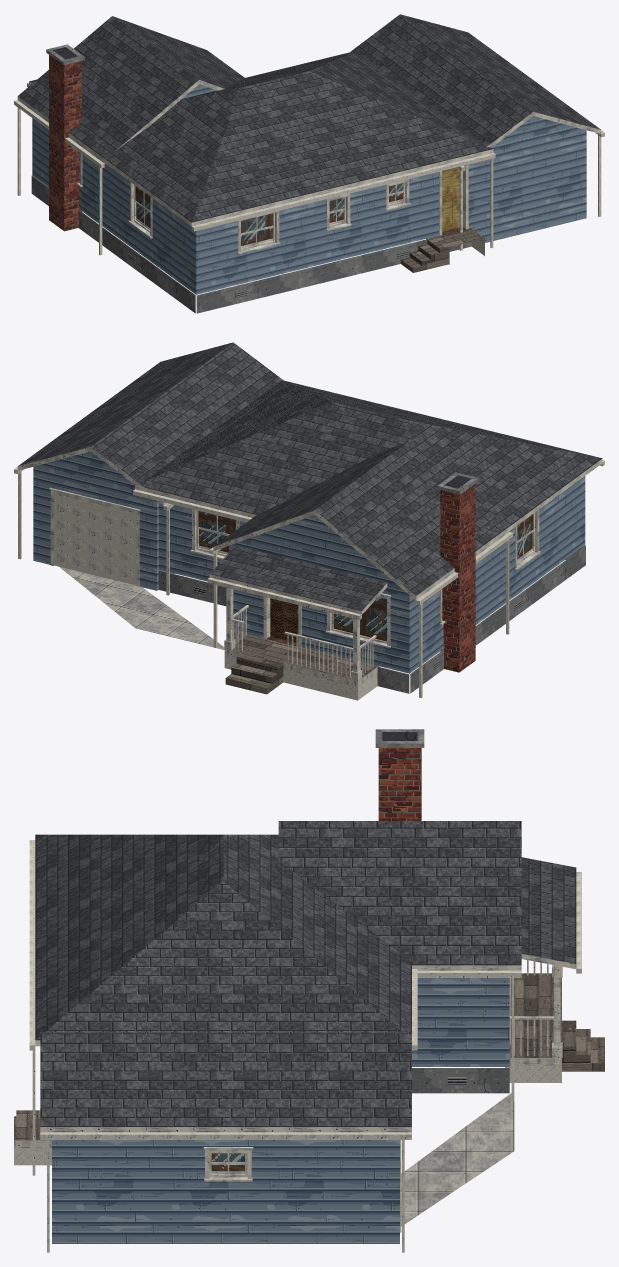
Rendered from RES_PlayerHome.obj.
The picture shows the model from 3 angles, top to bottom: view 1: azimuth 30°, elevation 25°; view 2: azimuth 150°, elevation 25°; view 3: azimuth 270°, elevation 25°; orthographic projection. The views are drawn at different scales.
Visible parts, largest first — view 1: RES_PlayerHome_Exterior_M_Arch_RoofShinglesDarkGray, RES_PlayerHome_Exterior_M_Arch_SidingBlue, RES_PlayerHome_Exterior_M_Arch_ConcreteFoundation, RES_PlayerHome_Exterior_M_Arch_TrimPainted, RES_PlayerHome_Exterior_M_Arch_BrickRed, RES_PlayerHome_Exterior_M_Town_PaintWhite, RES_PlayerHome_Exterior_M_Arch_WoodPlanksAged, INT_Door_Back_M_Furn_WoodPainted, RES_PlayerHome_Exterior_M_Arch_WindowGlassDirty; view 2: RES_PlayerHome_Exterior_M_Arch_RoofShinglesDarkGray, RES_PlayerHome_Exterior_M_Arch_SidingBlue, RES_PlayerHome_Exterior_M_Arch_TrimPainted, INT_GarageDoor_Garage_M_Town_PaintWhite, RES_PlayerHome_Exterior_M_Arch_BrickRed, RES_PlayerHome_Exterior_M_Arch_ConcreteFoundation, RES_PlayerHome_Exterior_M_Town_PaintWhite, RES_PlayerHome_Exterior_M_Arch_WoodPlanksAged, RES_PlayerHome_Exterior_M_Road_SidewalkConcrete, RES_PlayerHome_Exterior_M_Arch_WindowGlassDirty, RES_PlayerHome_Exterior_M_Res_Lattice, INT_Door_Front_M_Furn_WoodDark; view 3: RES_PlayerHome_Exterior_M_Arch_RoofShinglesDarkGray, RES_PlayerHome_Exterior_M_Arch_SidingBlue, RES_PlayerHome_Exterior_M_Town_PaintWhite, RES_PlayerHome_Exterior_M_Arch_TrimPainted, RES_PlayerHome_Exterior_M_Road_SidewalkConcrete, RES_PlayerHome_Exterior_M_Arch_WoodPlanksAged, RES_PlayerHome_Exterior_M_Arch_BrickRed, RES_PlayerHome_Exterior_M_Arch_ConcreteFoundation, RES_PlayerHome_Exterior_M_Res_Lattice.
Boxes of the visible parts, <box> form: RES_PlayerHome_Exterior_M_Arch_RoofShinglesDarkGray: <box>18,14,600,222</box>; RES_PlayerHome_Exterior_M_Arch_SidingBlue: <box>32,84,586,294</box>; RES_PlayerHome_Exterior_M_Arch_ConcreteFoundation: <box>31,44,474,313</box>; RES_PlayerHome_Exterior_M_Arch_TrimPainted: <box>17,80,601,254</box>; RES_PlayerHome_Exterior_M_Arch_BrickRed: <box>49,55,81,231</box>; RES_PlayerHome_Exterior_M_Town_PaintWhite: <box>14,82,604,255</box>; RES_PlayerHome_Exterior_M_Arch_WoodPlanksAged: <box>400,228,484,272</box>; INT_Door_Back_M_Furn_WoodPainted: <box>442,167,459,231</box>; RES_PlayerHome_Exterior_M_Arch_WindowGlassDirty: <box>135,183,403,233</box>; RES_PlayerHome_Exterior_M_Arch_RoofShinglesDarkGray: <box>18,342,602,610</box>; RES_PlayerHome_Exterior_M_Arch_SidingBlue: <box>33,451,585,673</box>; RES_PlayerHome_Exterior_M_Arch_TrimPainted: <box>17,447,602,687</box>; INT_GarageDoor_Garage_M_Town_PaintWhite: <box>53,493,135,585</box>; RES_PlayerHome_Exterior_M_Arch_BrickRed: <box>440,484,475,672</box>; RES_PlayerHome_Exterior_M_Arch_ConcreteFoundation: <box>158,472,585,693</box>; RES_PlayerHome_Exterior_M_Town_PaintWhite: <box>14,460,604,698</box>; RES_PlayerHome_Exterior_M_Arch_WoodPlanksAged: <box>225,634,378,694</box>; RES_PlayerHome_Exterior_M_Road_SidewalkConcrete: <box>59,566,224,649</box>; RES_PlayerHome_Exterior_M_Arch_WindowGlassDirty: <box>198,511,533,641</box>; RES_PlayerHome_Exterior_M_Res_Lattice: <box>224,655,377,700</box>; INT_Door_Front_M_Furn_WoodDark: <box>270,598,298,642</box>; RES_PlayerHome_Exterior_M_Arch_RoofShinglesDarkGray: <box>35,821,576,1126</box>; RES_PlayerHome_Exterior_M_Arch_SidingBlue: <box>52,978,509,1243</box>; RES_PlayerHome_Exterior_M_Town_PaintWhite: <box>29,840,581,1252</box>; RES_PlayerHome_Exterior_M_Arch_TrimPainted: <box>14,954,576,1232</box>; RES_PlayerHome_Exterior_M_Road_SidewalkConcrete: <box>401,1093,514,1226</box>; RES_PlayerHome_Exterior_M_Arch_WoodPlanksAged: <box>14,973,604,1140</box>; RES_PlayerHome_Exterior_M_Arch_BrickRed: <box>378,748,421,820</box>; RES_PlayerHome_Exterior_M_Arch_ConcreteFoundation: <box>51,729,510,1142</box>; RES_PlayerHome_Exterior_M_Res_Lattice: <box>14,1065,561,1165</box>.
Size of the model in its own units: 14.23 by 5.5 by 12.4.
28 materials, 27 textured.
